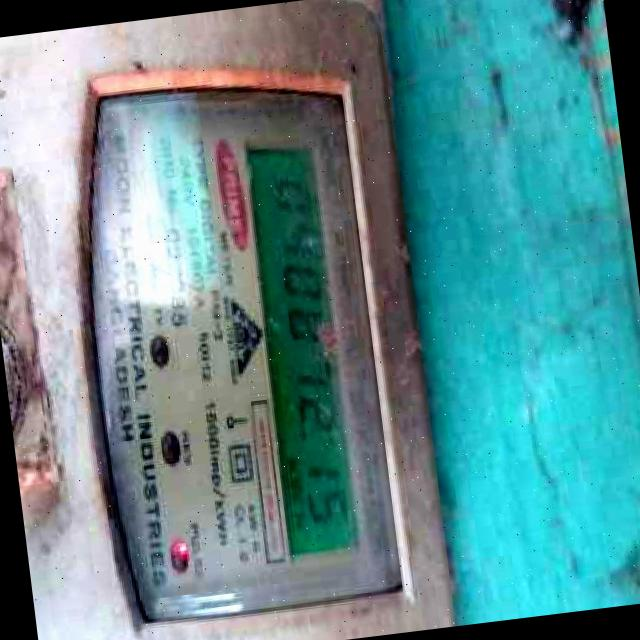LCD: (221, 130, 378, 584)
